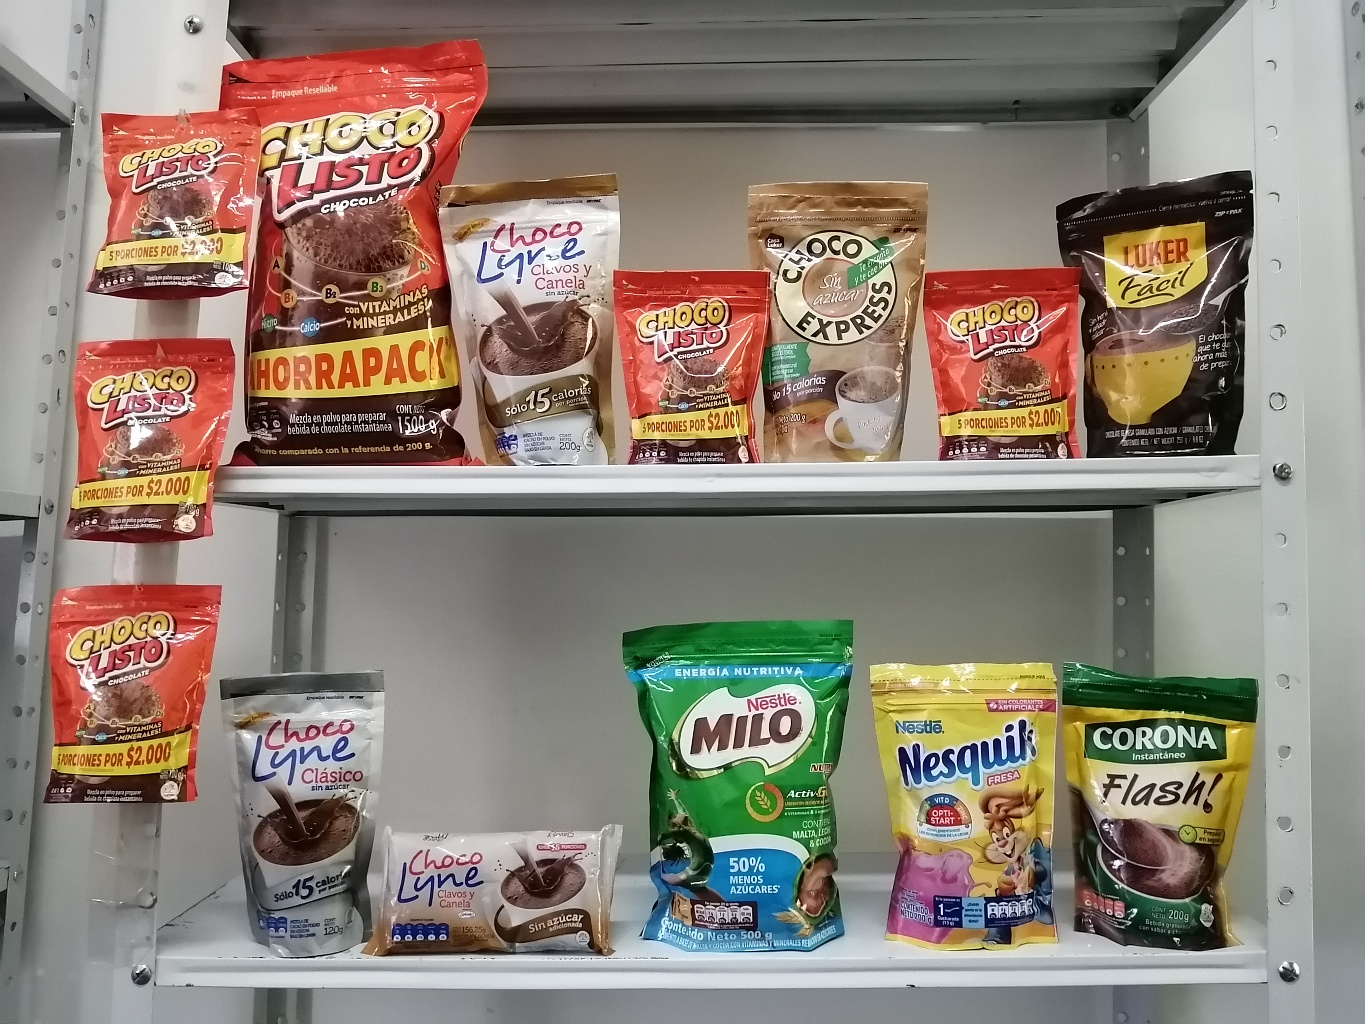COL0170103DYP1,500: (221, 47, 489, 471)
COL0170205DYP50000: (611, 608, 864, 956)
COL0170305DYP20000: (868, 643, 1084, 970)
